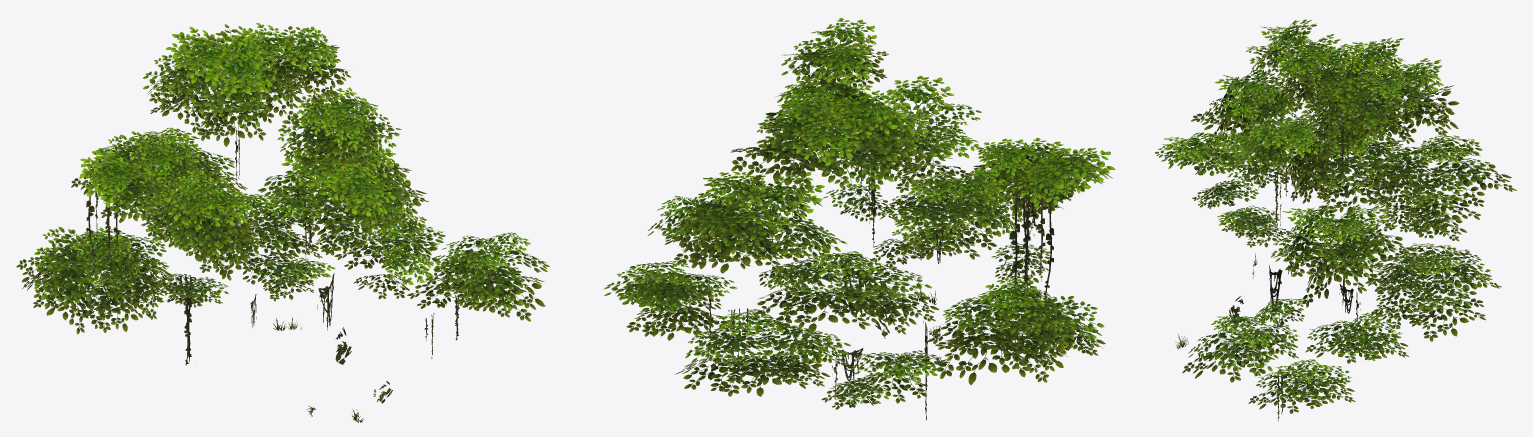
Rendered from xl_shuye_4.FBX.
3 renders of one model, left to right at view 1: azimuth 30°, elevation 25°; view 2: azimuth 150°, elevation 25°; view 3: azimuth 270°, elevation 25°, orthographic. The views are drawn at different scales.
Visible parts, largest first — view 1: xl_shuye_4; view 2: xl_shuye_4; view 3: xl_shuye_4.
Boxes of the visible parts, x1,y1,x2,y2 form: xl_shuye_4: [16, 22, 549, 422]; xl_shuye_4: [604, 18, 1115, 420]; xl_shuye_4: [1155, 19, 1516, 421].
Bounding box in the file's own units: 11485 × 8030 × 8418.
